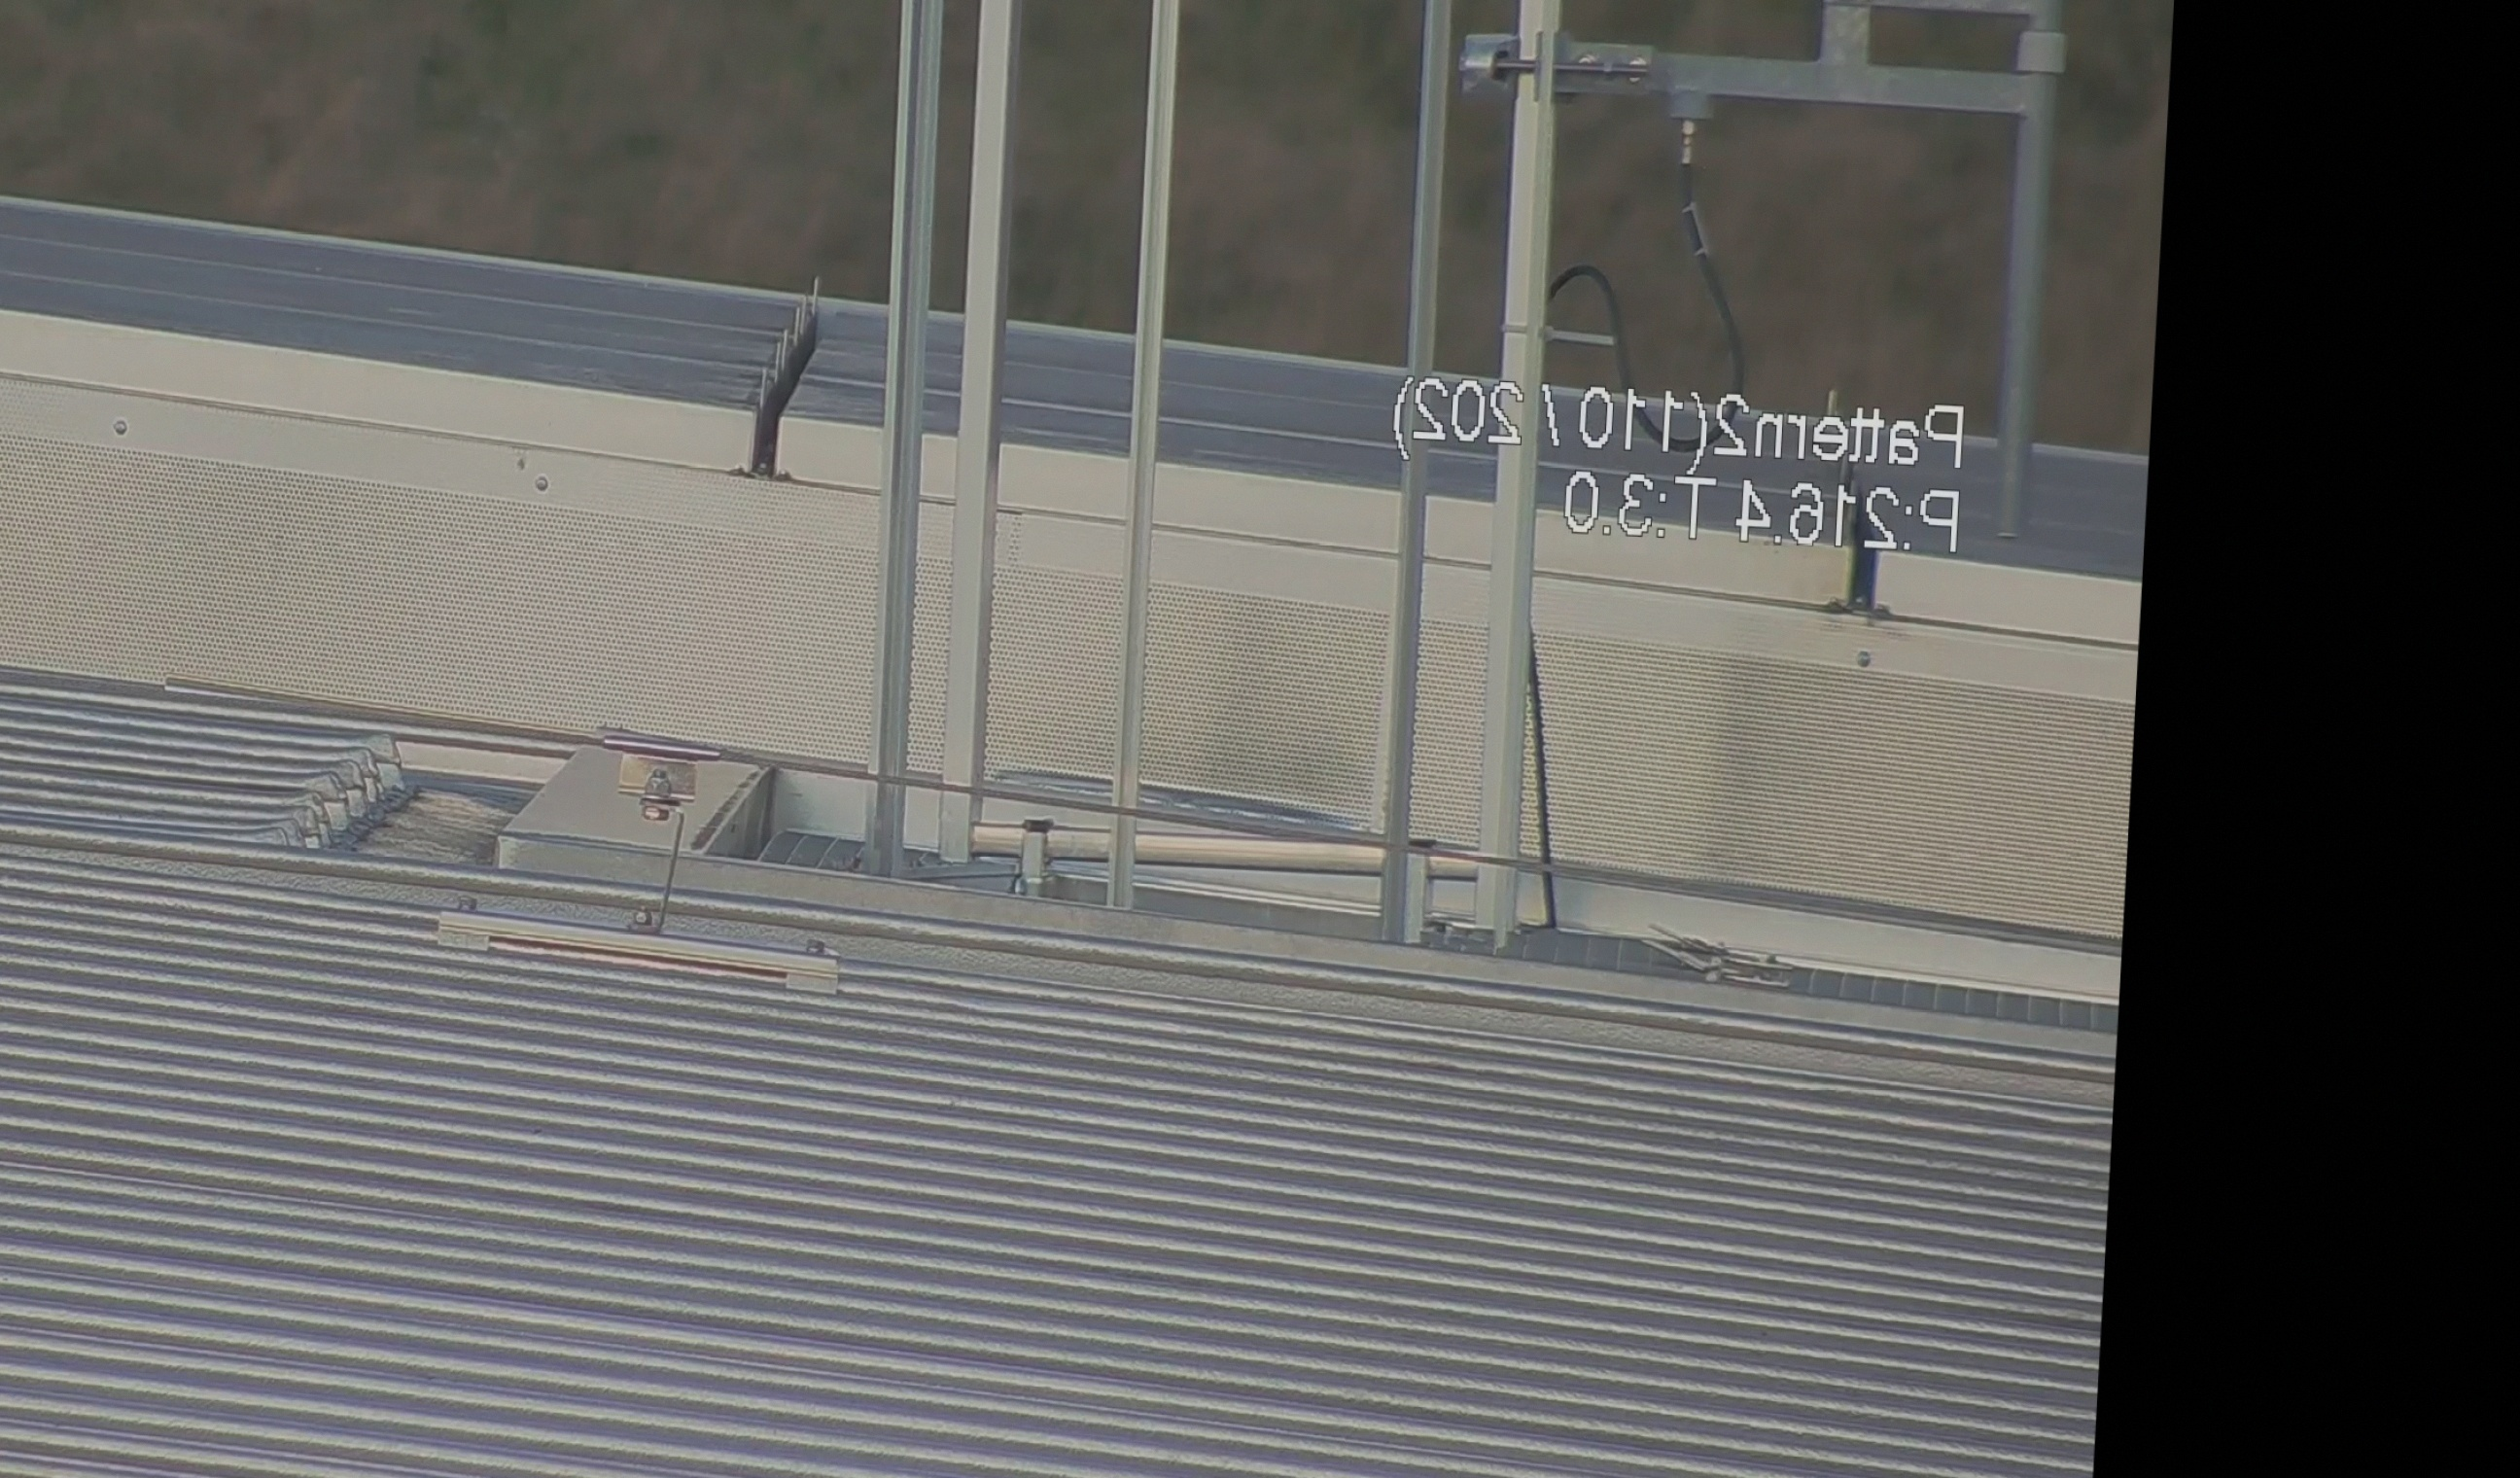Other: (719, 246, 860, 501)
